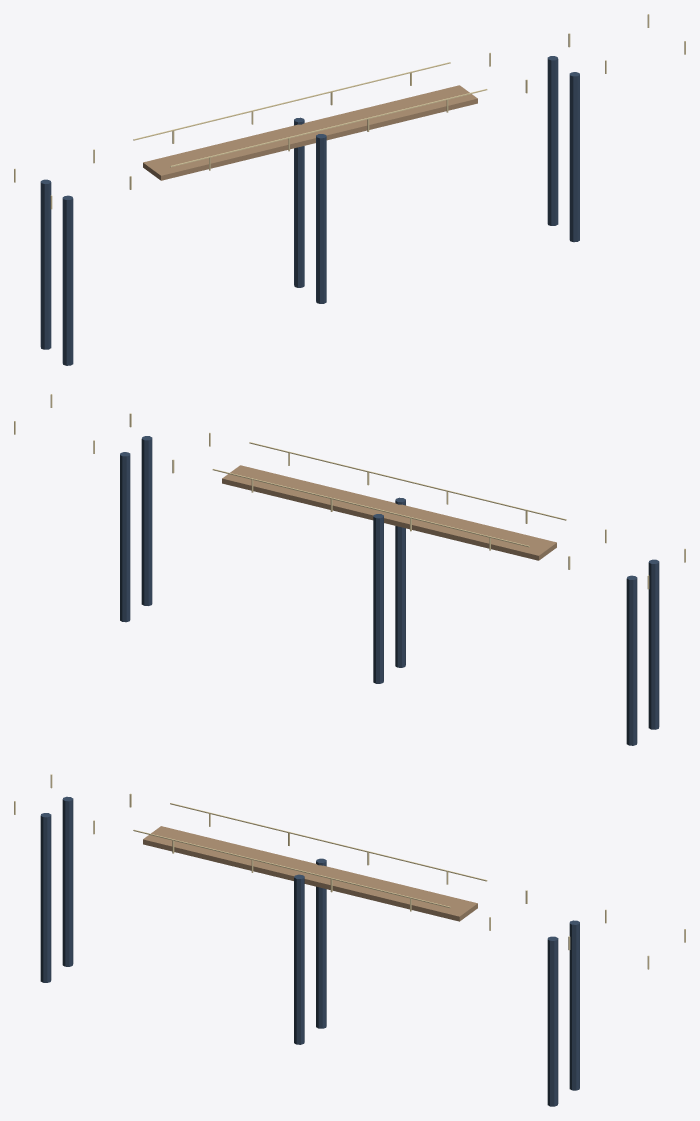
The model's file is reef-deck-segment.glb.
3 renders of one model, top to bottom at view 1: azimuth 30°, elevation 25°; view 2: azimuth 150°, elevation 25°; view 3: azimuth 330°, elevation 25°, orthographic.
Visible parts, largest first — view 1: Cylinder.035, Cube.011, Cube.012; view 2: Cylinder.035, Cube.011, Cube.012; view 3: Cylinder.035, Cube.011, Cube.012.
Boxes of the visible parts, x1=… form: Cylinder.035: x1=40, y1=56, x2=579, y2=365; Cube.011: x1=143, y1=85, x2=477, y2=180; Cube.012: x1=14, y1=14, x2=685, y2=209; Cylinder.035: x1=120, y1=436, x2=659, y2=745; Cube.011: x1=222, y1=465, x2=556, y2=560; Cube.012: x1=14, y1=394, x2=685, y2=589; Cylinder.035: x1=40, y1=796, x2=579, y2=1106; Cube.011: x1=143, y1=826, x2=477, y2=921; Cube.012: x1=14, y1=774, x2=685, y2=969.
Bounding box in the file's own units: 40.09 × 10.83 × 4.1.
